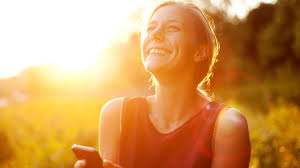No-Glasses: (142, 22, 189, 37)
